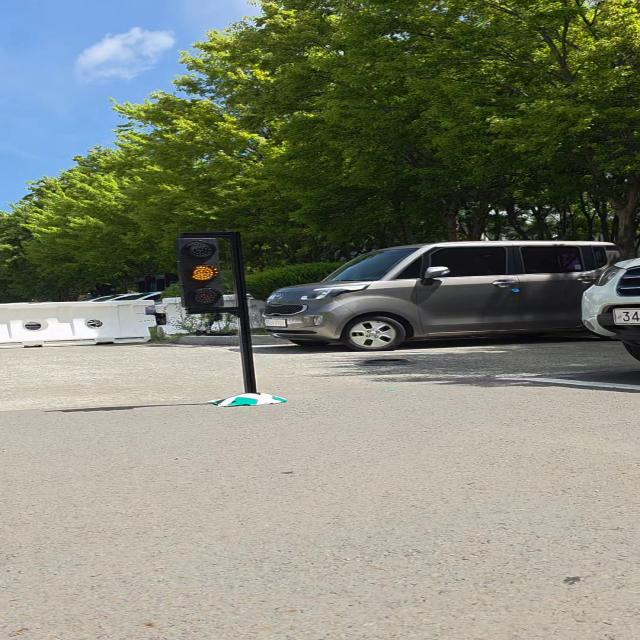yellow: (173, 237, 226, 309)
